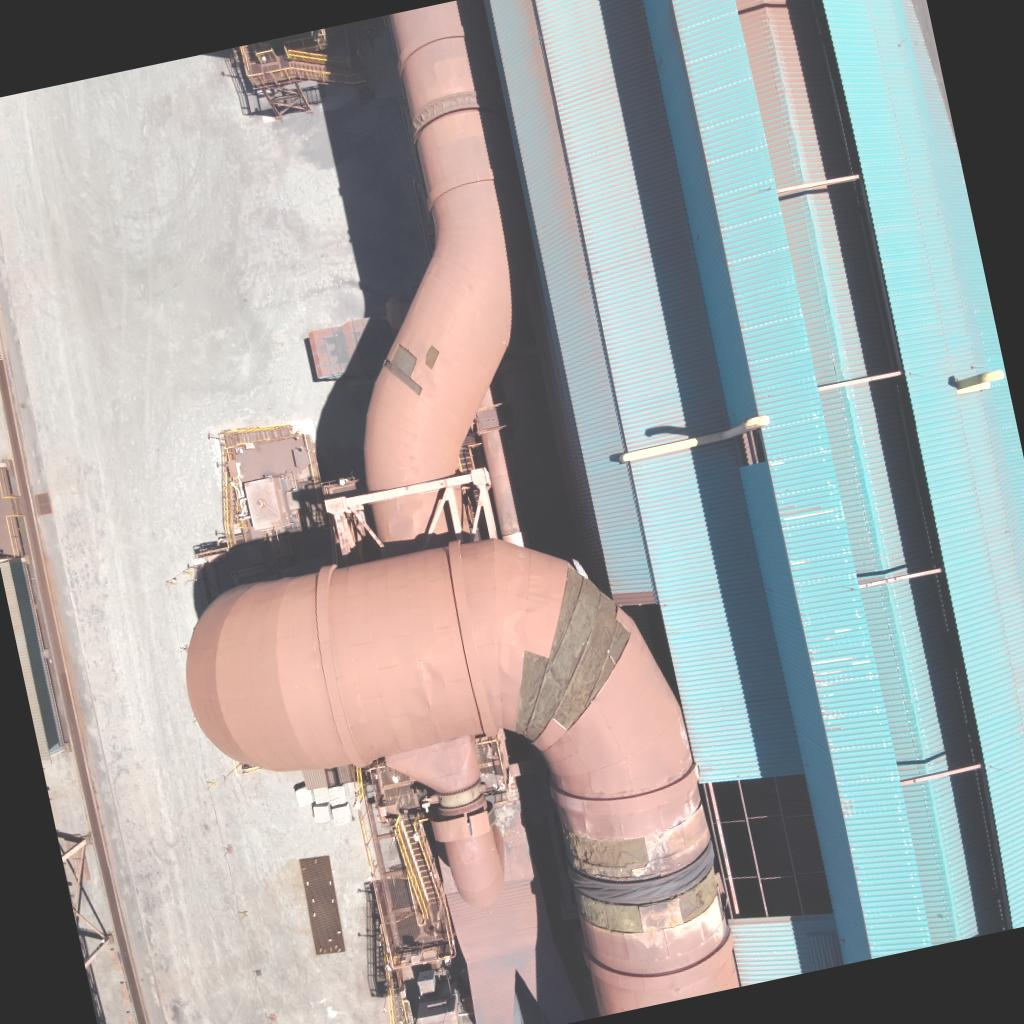Failures: (548, 788, 746, 962), (484, 564, 660, 750), (418, 796, 500, 864), (378, 338, 426, 410), (418, 341, 444, 376)
